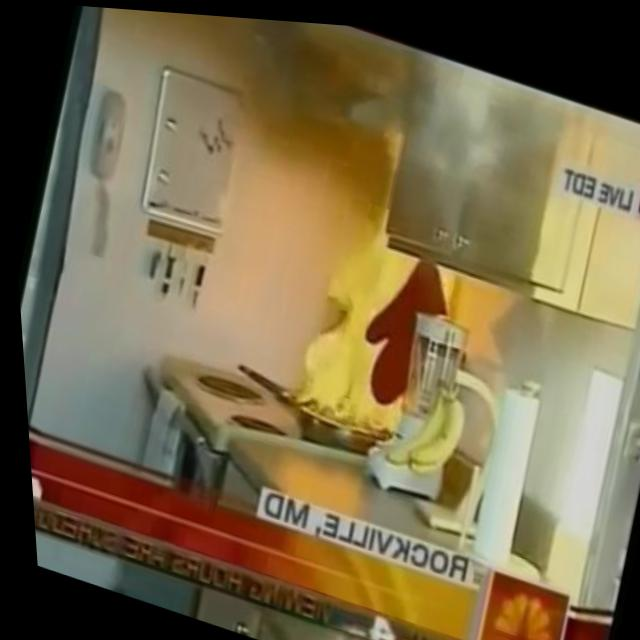fire: (264, 103, 510, 456)
